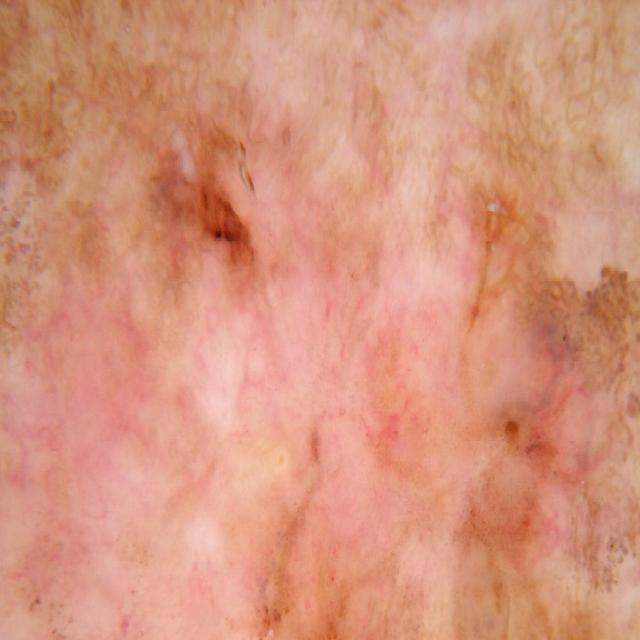Melanoma: (0, 143, 640, 640)
